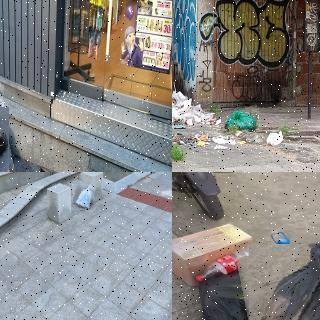Garbage: (242, 239, 320, 320), (193, 262, 273, 320), (220, 106, 260, 134), (0, 105, 11, 172), (72, 183, 95, 211)
